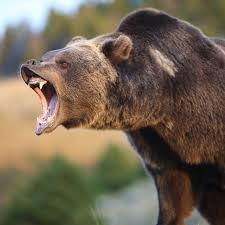bear: (21, 8, 225, 225)
